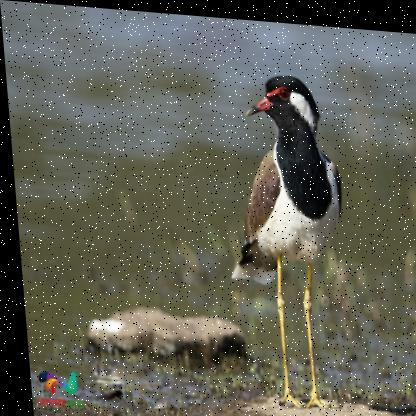Burung: (214, 66, 354, 407)
